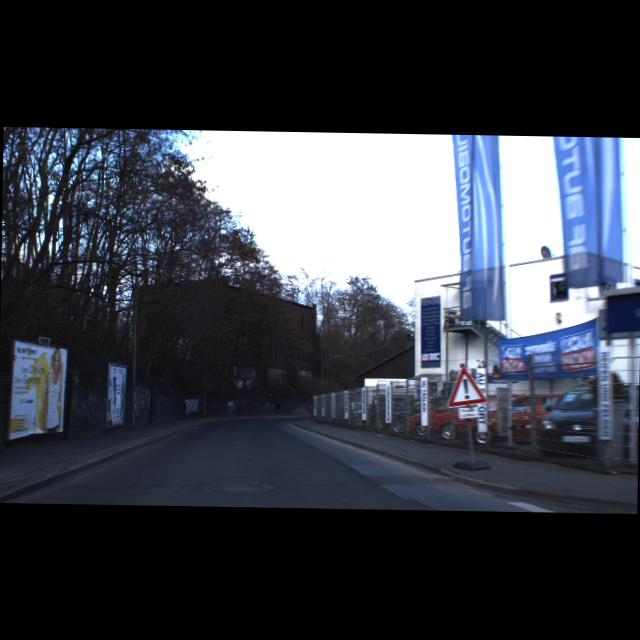danger: (447, 366, 488, 408)
